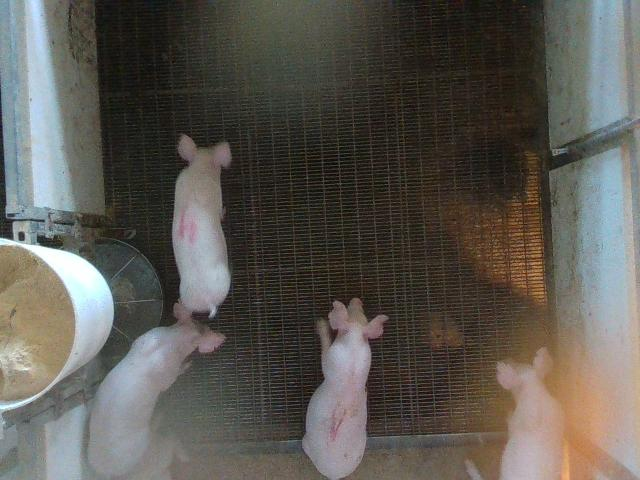pig-1: (302, 298, 389, 479)
pig-4: (172, 135, 231, 317)
